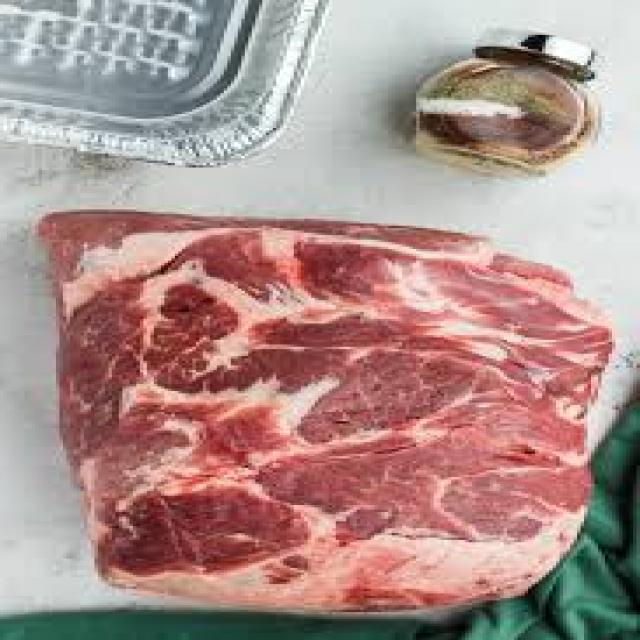Pork: (39, 211, 612, 609)
